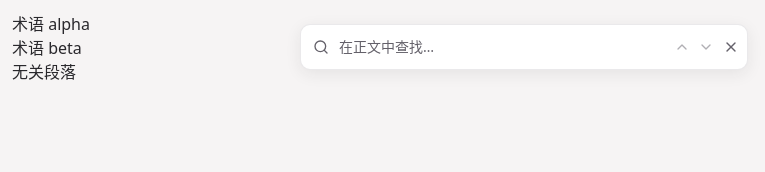
it: ArticleFindBar — 文内查找条 › 查询变化清除旧高亮（stub 下旧 registry 条目被替换/清理）
Type "术语" into the field named "查找正文" at (497, 47), box [339,31,656,63]
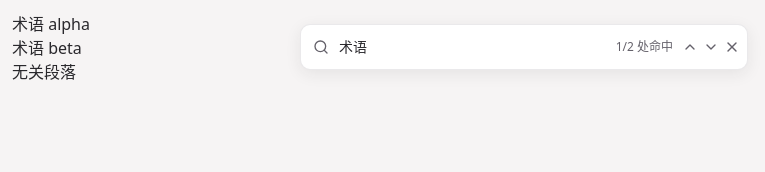
Replace the text in the field named "查找正文" with "不存在的词" at (473, 47), box [339,31,608,63]
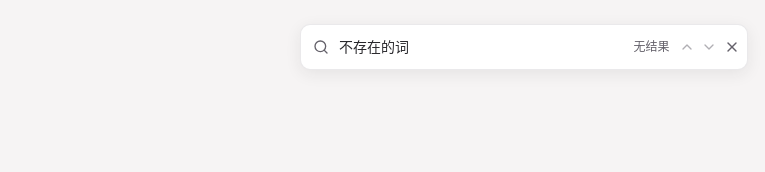
Check: the text "无结果" is shown, box [634,38,670,55]
